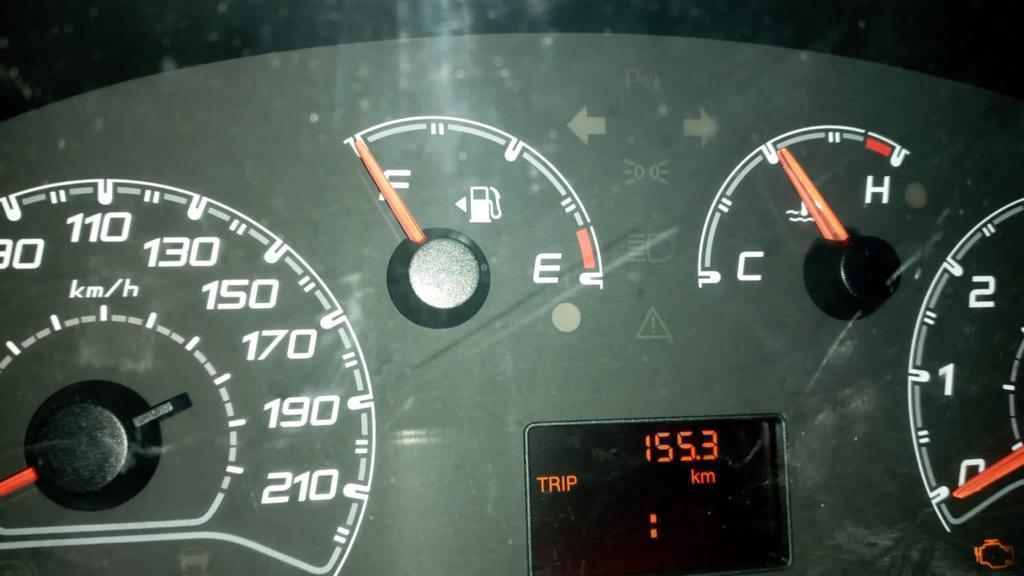,: (695, 453, 700, 462)
1: (643, 431, 652, 463)
3: (701, 428, 718, 460)
5: (675, 428, 695, 462), (654, 430, 672, 464)
X: (647, 508, 661, 544), (534, 474, 547, 494), (548, 474, 560, 493), (700, 470, 715, 483), (566, 474, 577, 491), (690, 467, 700, 484), (561, 474, 566, 493)
odometer: (520, 410, 795, 576)
